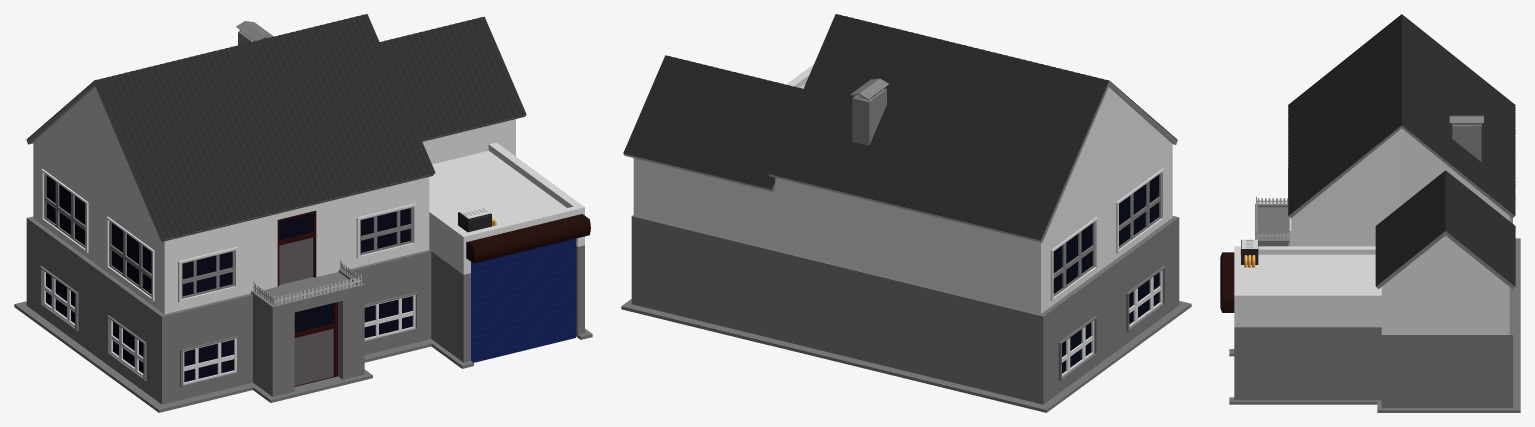
The model's file is House_3.fbx.
The picture shows the model from 3 angles, left to right: view 1: azimuth 30°, elevation 25°; view 2: azimuth 150°, elevation 25°; view 3: azimuth 270°, elevation 25°; orthographic projection. The views are drawn at different scales.
Visible parts, largest first — view 1: Plane.042; view 2: Plane.042; view 3: Plane.042.
Boxes of the visible parts, bbox=[...] form: Plane.042: bbox=[14, 14, 592, 412]; Plane.042: bbox=[621, 14, 1191, 412]; Plane.042: bbox=[1220, 14, 1520, 412].
Size of the model in its own units: 804 by 504 by 592.
